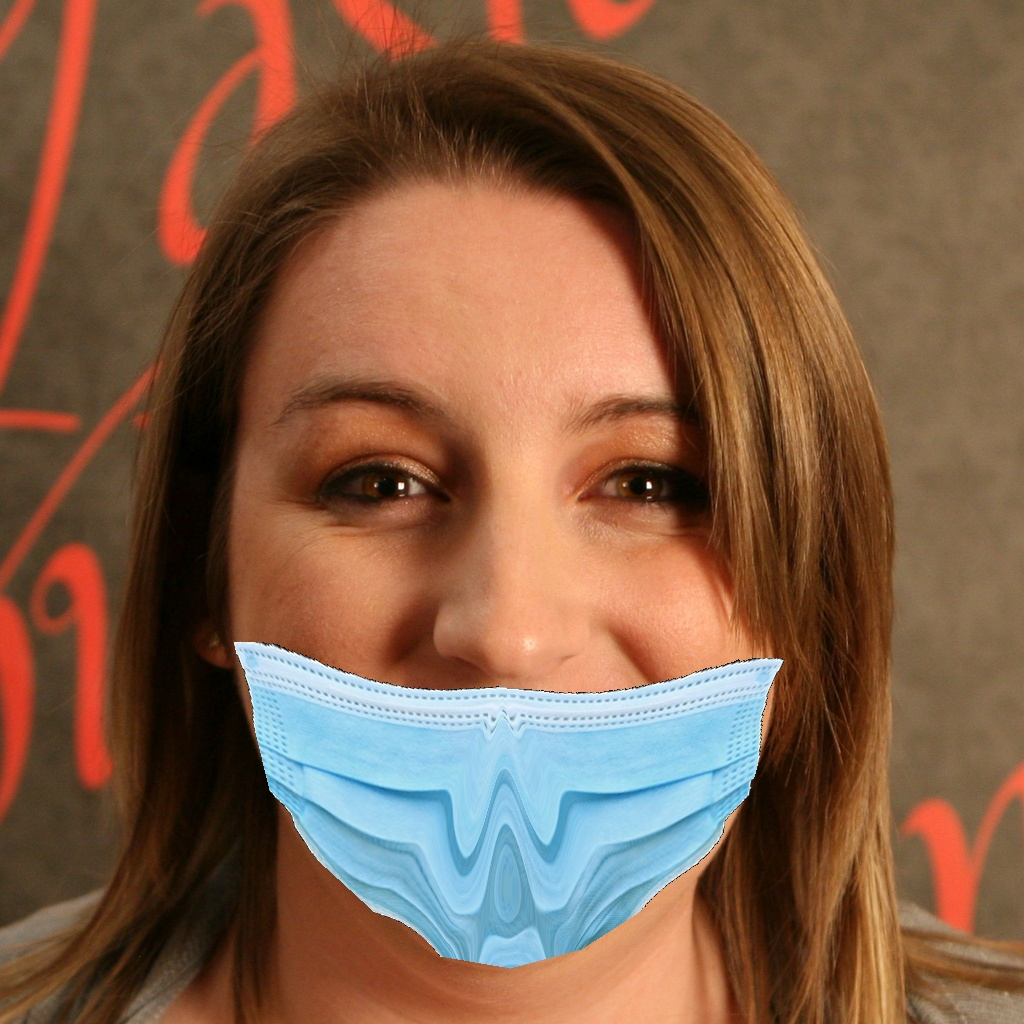mascarilla_mal_puesta: (252, 370, 777, 943)
